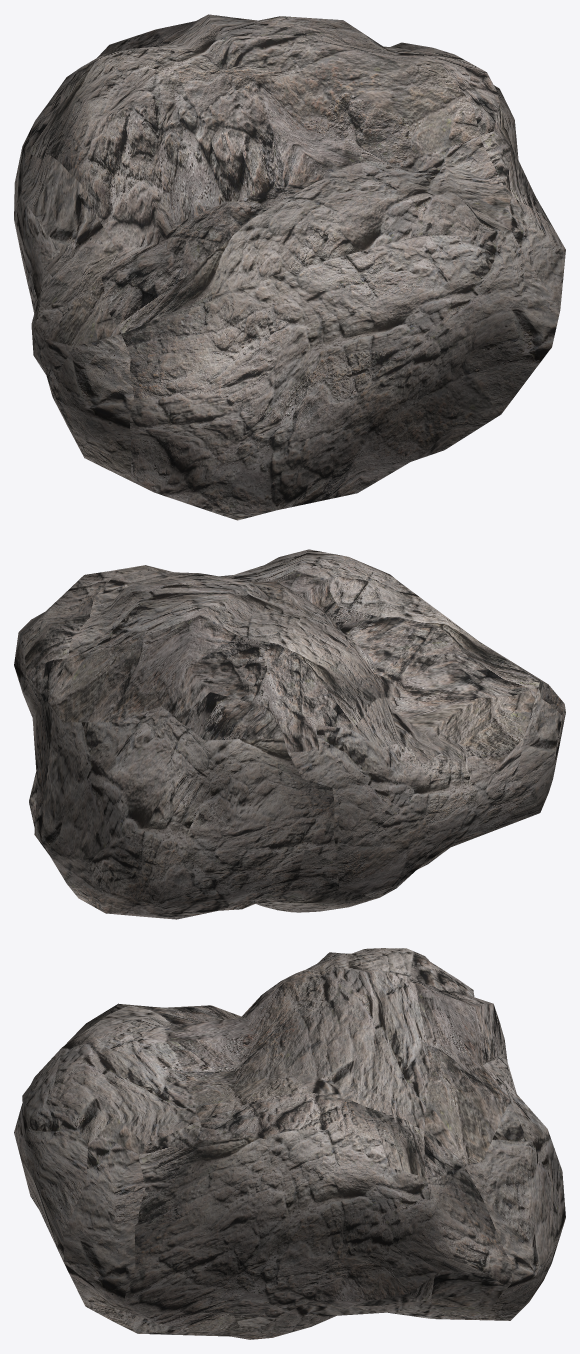
The model's file is Rock.glb.
3 views of the same model, one above another, from view 1: azimuth 30°, elevation 25°; view 2: azimuth 150°, elevation 25°; view 3: azimuth 270°, elevation 25° (orthographic). The views are drawn at different scales.
Visible parts, largest first — view 1: Sphere; view 2: Sphere; view 3: Sphere.
Part boxes in pixels (x1,y1,x2,y2): Sphere: [14, 14, 565, 520]; Sphere: [14, 549, 565, 919]; Sphere: [14, 948, 565, 1339].
Size of the model in its own units: 4.79 by 3.52 by 4.79.
1 material, 1 textured.
